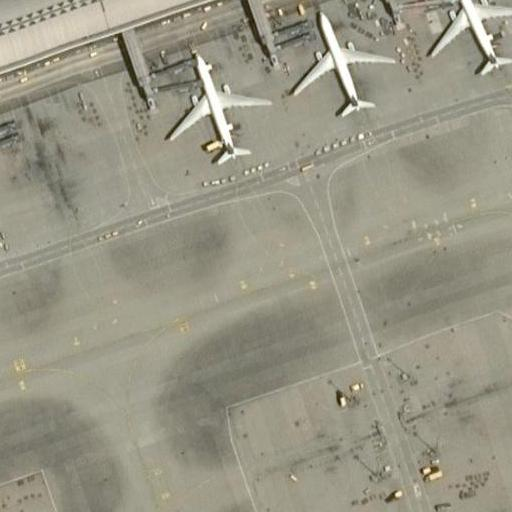Aircraft: (157, 42, 277, 167), (278, 0, 398, 120), (162, 46, 269, 166), (286, 6, 395, 119), (418, 0, 512, 75), (424, 0, 512, 78)
